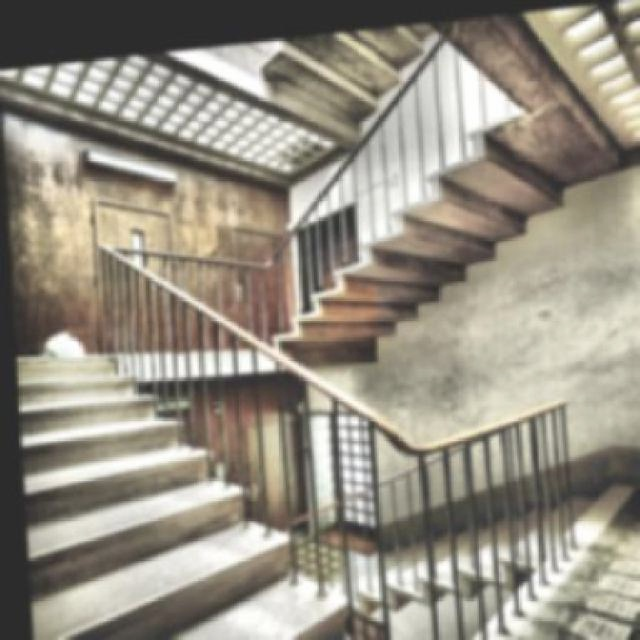stair: (9, 228, 388, 638)
